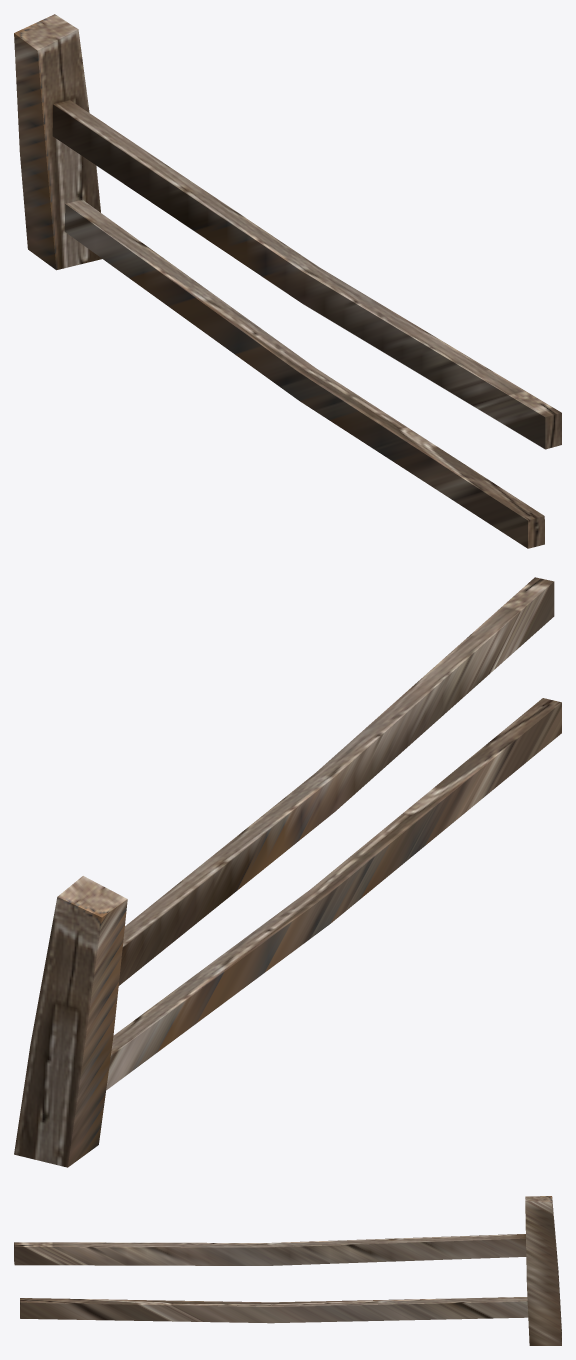
The model's file is start_fence_11.glb.
3 renders of one model, top to bottom at view 1: azimuth 30°, elevation 25°; view 2: azimuth 150°, elevation 25°; view 3: azimuth 270°, elevation 25°, orthographic. The views are drawn at different scales.
Visible parts, largest first — view 1: start_fence_11_game; view 2: start_fence_11_game; view 3: start_fence_11_game.
Boxes of the visible parts, x1=… form: start_fence_11_game: x1=14, y1=14, x2=561, y2=548; start_fence_11_game: x1=14, y1=577, x2=561, y2=1167; start_fence_11_game: x1=14, y1=1196, x2=561, y2=1345.
Size of the model in its own units: 0.419 by 1.27 by 4.62.
1 material, 1 textured.
